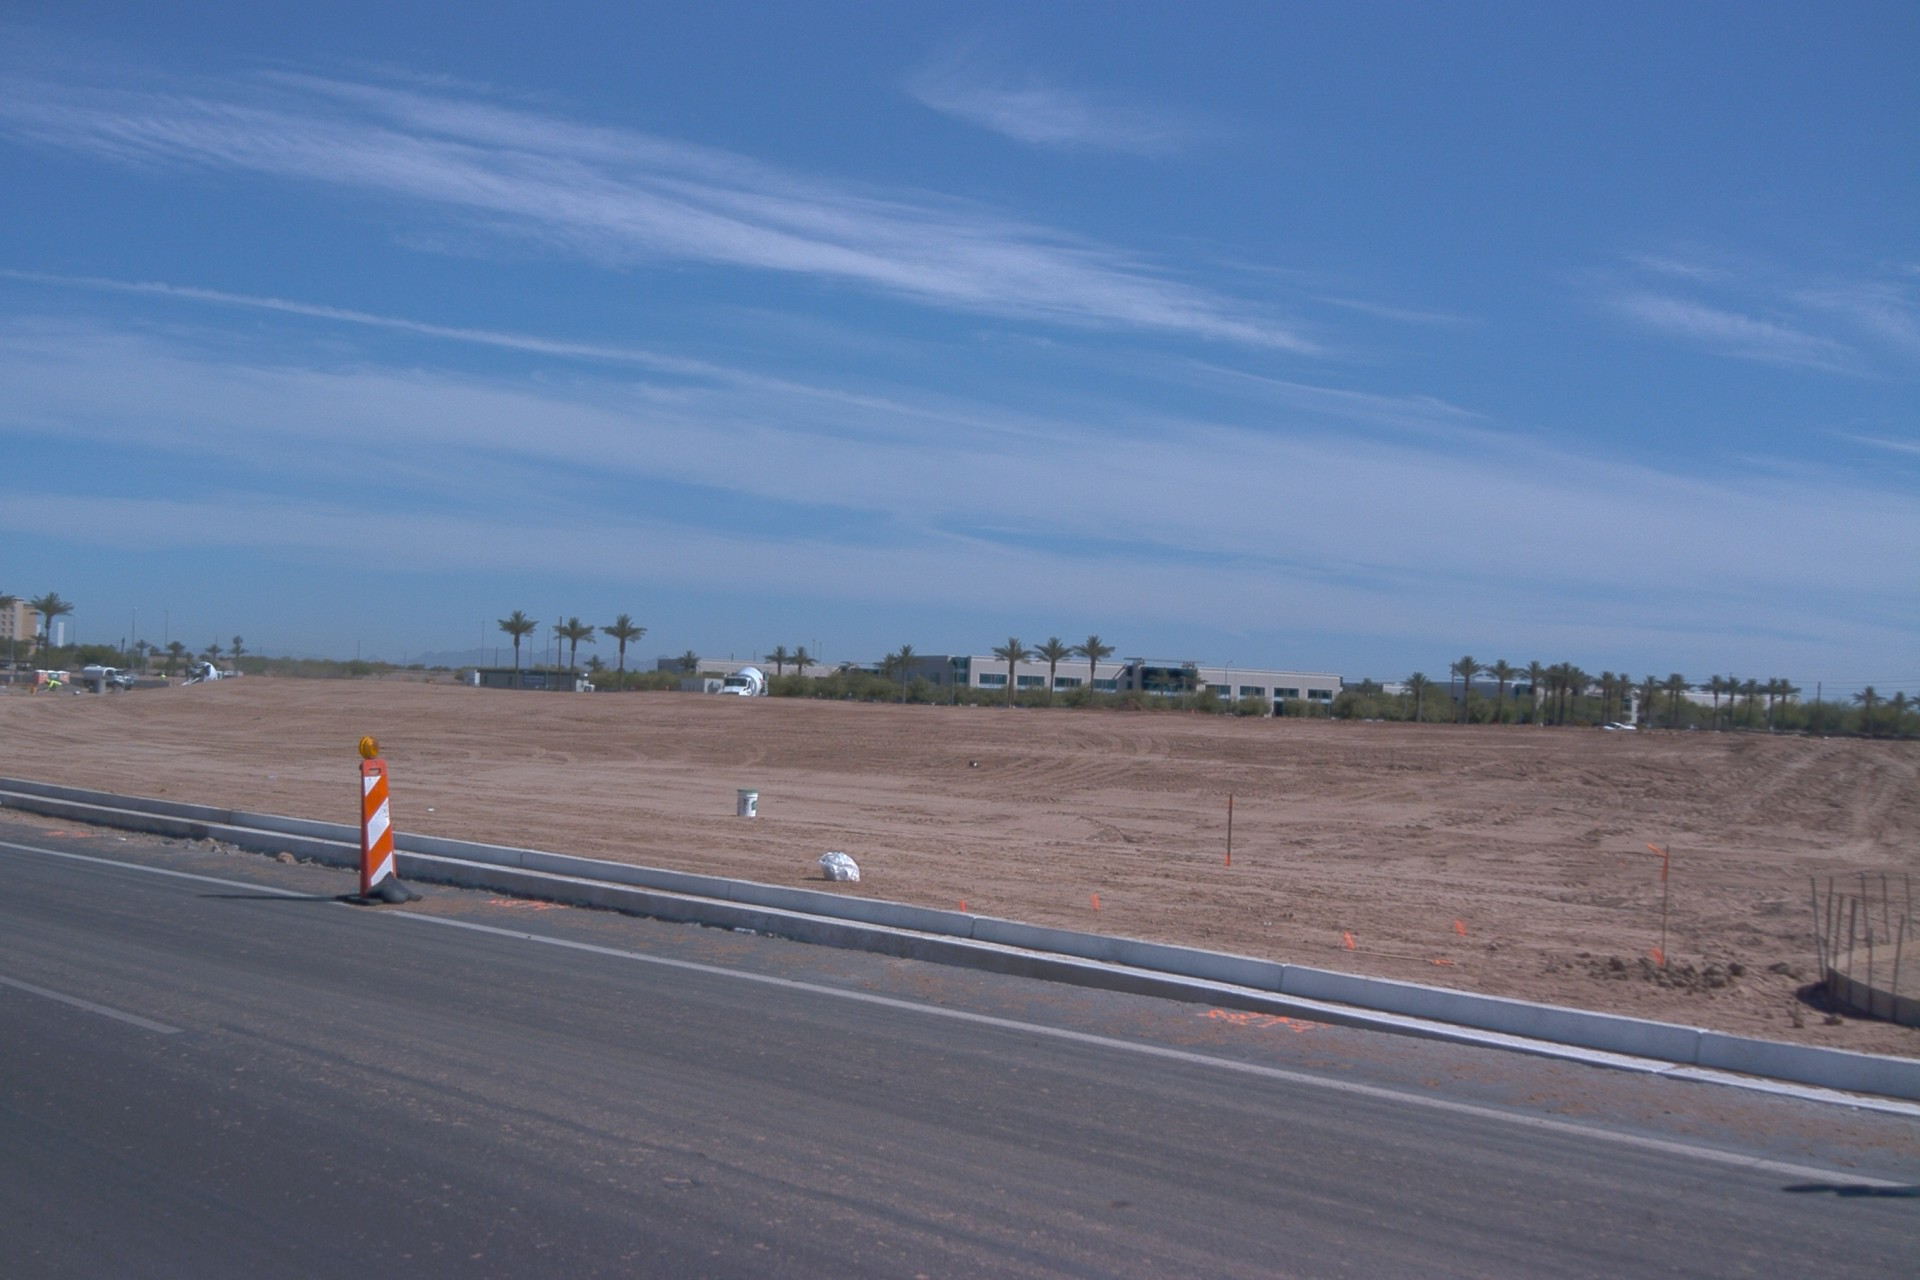TYPE_PEDESTRIAN: (45, 679, 64, 693)
TYPE_VEHICLE: (714, 668, 766, 700), (83, 667, 136, 693), (178, 663, 226, 686)
